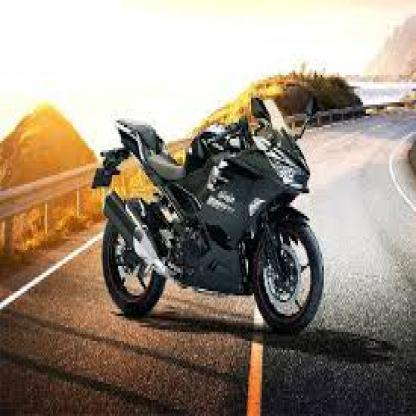Motorcycle: (93, 87, 329, 340)
